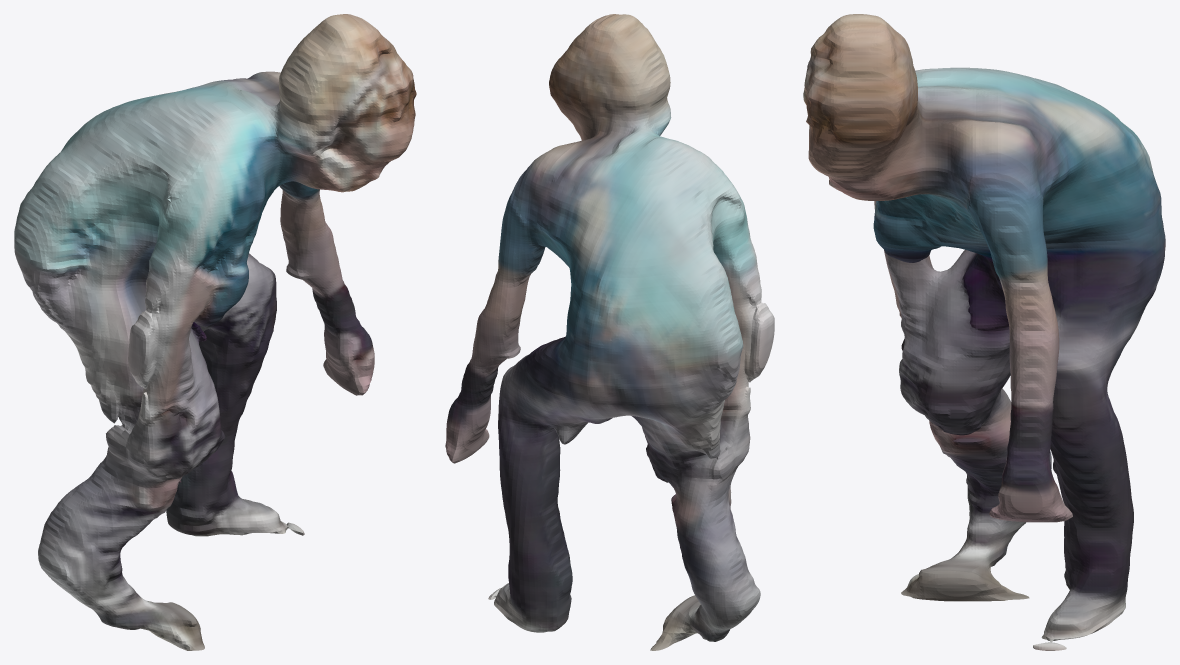
File: 0003_tex.glb
3 views of the same model, side by side, from view 1: azimuth 30°, elevation 25°; view 2: azimuth 150°, elevation 25°; view 3: azimuth 270°, elevation 25° (orthographic). The views are drawn at different scales.
Parts seen in each view (by area): view 1: 0003_tex.obj; view 2: 0003_tex.obj; view 3: 0003_tex.obj.
Boxes of the visible parts, x1,y1,x2,y2 form: 0003_tex.obj: (14,14,416,650); 0003_tex.obj: (445,14,774,650); 0003_tex.obj: (803,14,1165,650).
Bounding box in the file's own units: 0.4912 × 0.8763 × 0.4494.
